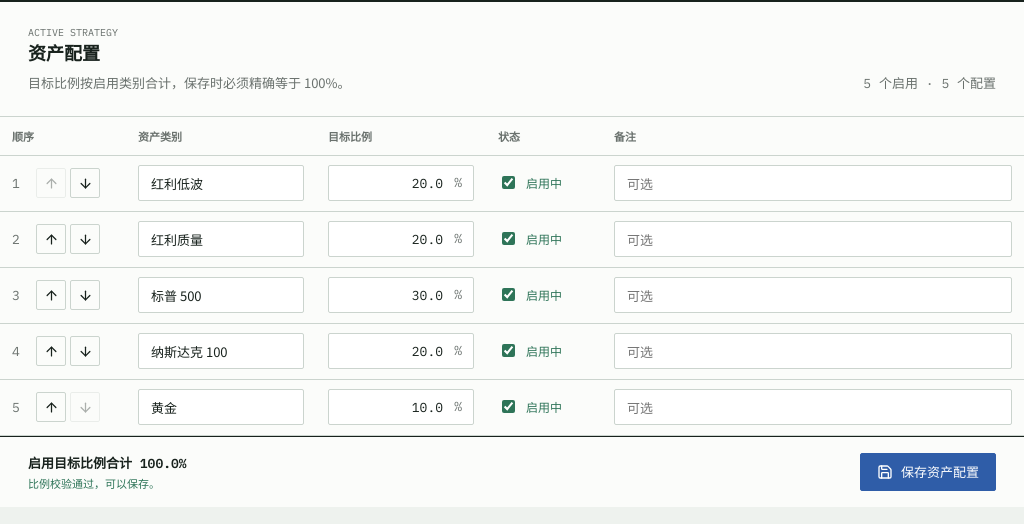
Scenario: AssetClassEditor › cancels and confirms deactivation with an explicit holding impact warning
This screenshot has width=1024, height=524.
Click the checkbox named "标普 500启用状态" at (508, 294), box [502,288,515,301]
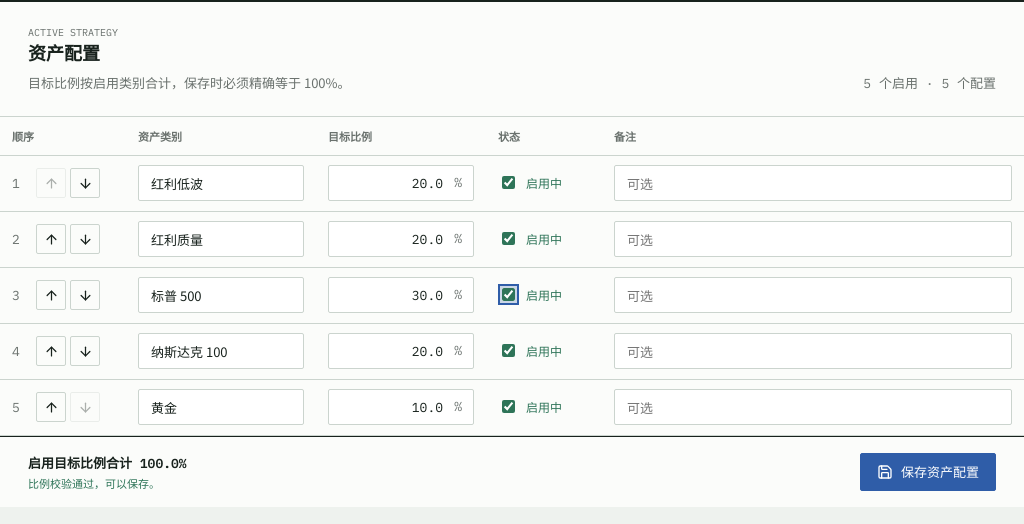
Click the checkbox named "标普 500启用状态" at (508, 294), box [502,288,515,301]
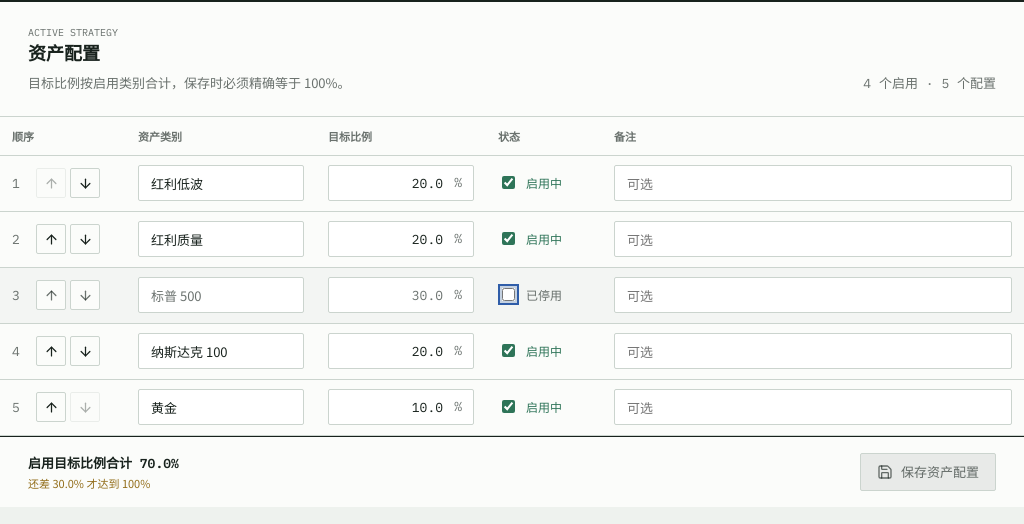
Expected: the checkbox named "标普 500启用状态" is not checked, [502,288,515,301]
Expected: the text "还差 30.0% 才达到 100%" is shown, [28,474,150,490]
Expected: the button "保存资产配置" is disabled, [860,452,996,490]
